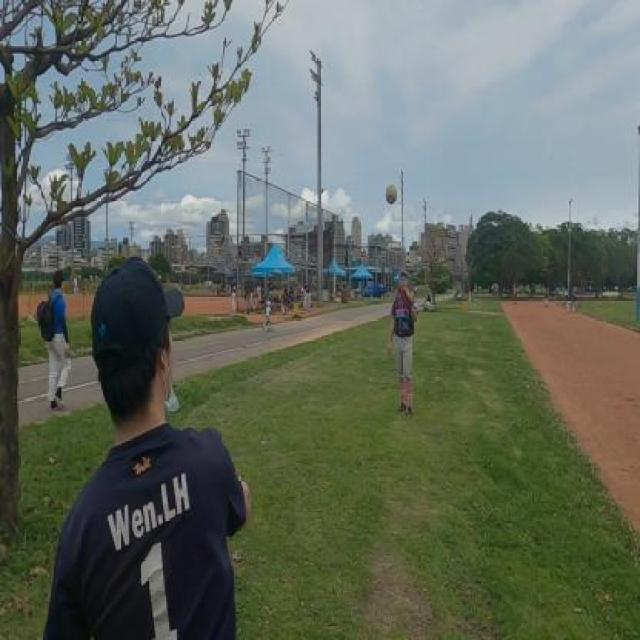baseball: (385, 183, 398, 205)
